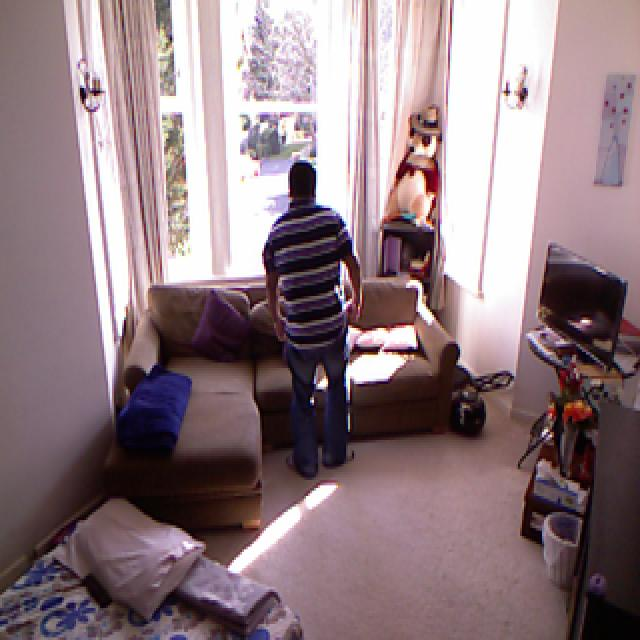standing: (260, 160, 366, 481)
